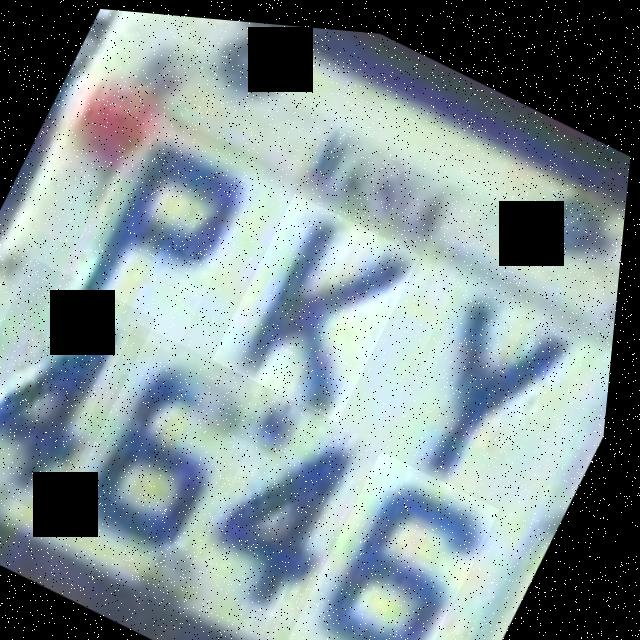4: (180, 384, 397, 633), (0, 254, 166, 525)
6: (51, 315, 289, 576), (298, 438, 513, 640)
K: (214, 184, 428, 420)
P: (58, 101, 274, 356)
Y: (385, 256, 598, 501)
